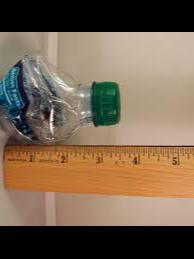Plastic: (0, 48, 117, 147)
